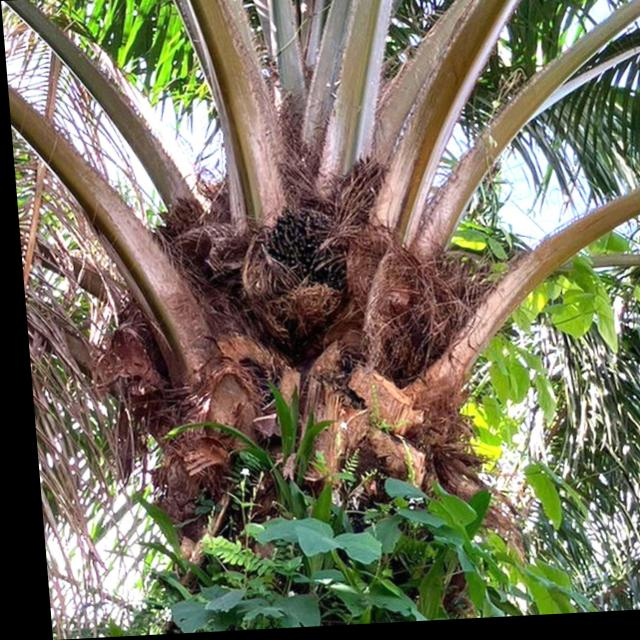unripe: (246, 197, 344, 319)
